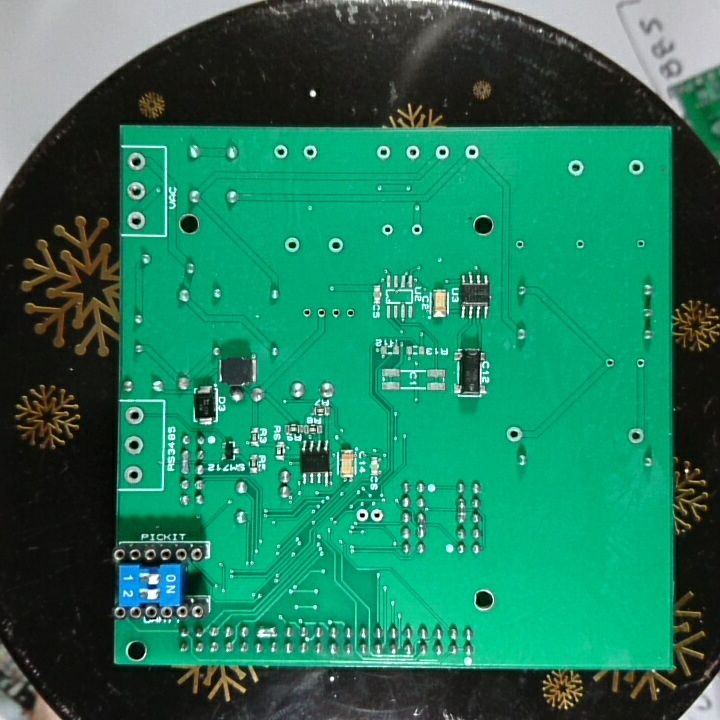F: (121, 463, 146, 486), (123, 433, 145, 459), (123, 404, 146, 426), (125, 208, 148, 230), (126, 150, 149, 172), (325, 235, 347, 258), (565, 156, 586, 178), (627, 155, 647, 178), (126, 181, 147, 202), (626, 424, 645, 447), (504, 423, 523, 445), (433, 141, 451, 164), (462, 142, 482, 162), (374, 142, 393, 163), (403, 142, 422, 163), (282, 235, 301, 255), (369, 505, 386, 527), (271, 143, 289, 163), (301, 143, 321, 161), (600, 355, 618, 374), (342, 302, 357, 324), (379, 220, 396, 239), (408, 220, 425, 238), (354, 506, 370, 525), (328, 303, 343, 323), (572, 235, 588, 252), (314, 304, 329, 321), (634, 235, 649, 251), (299, 305, 314, 320), (633, 355, 646, 371), (513, 236, 525, 252)
P: (254, 625, 279, 642), (414, 510, 428, 540), (454, 496, 468, 525), (179, 448, 192, 476)
